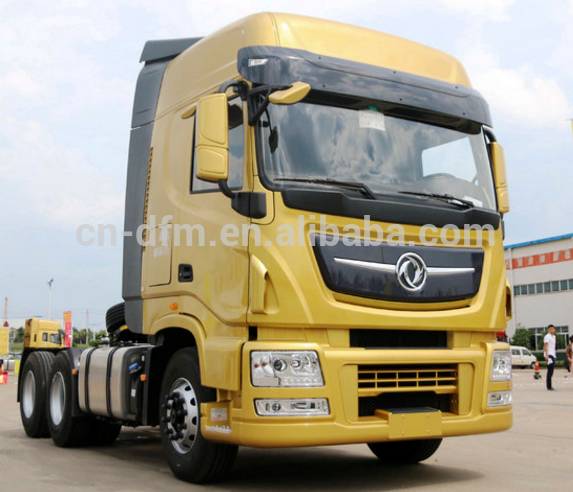truck: (28, 10, 504, 466)
